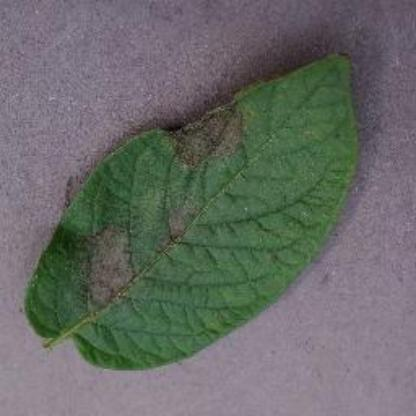Late-Blight: (17, 46, 383, 380)
